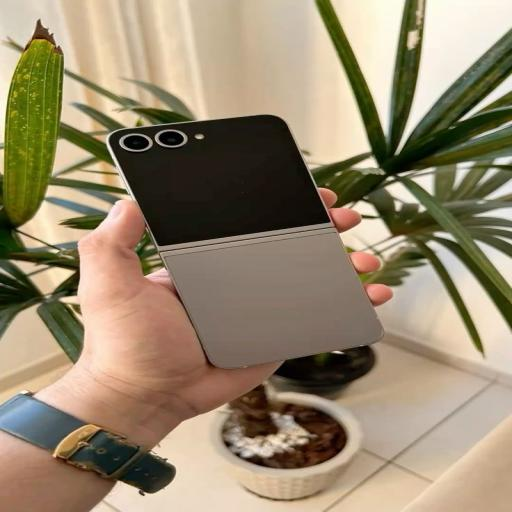laptop: (35, 200, 278, 448)
people: (108, 116, 383, 368)
